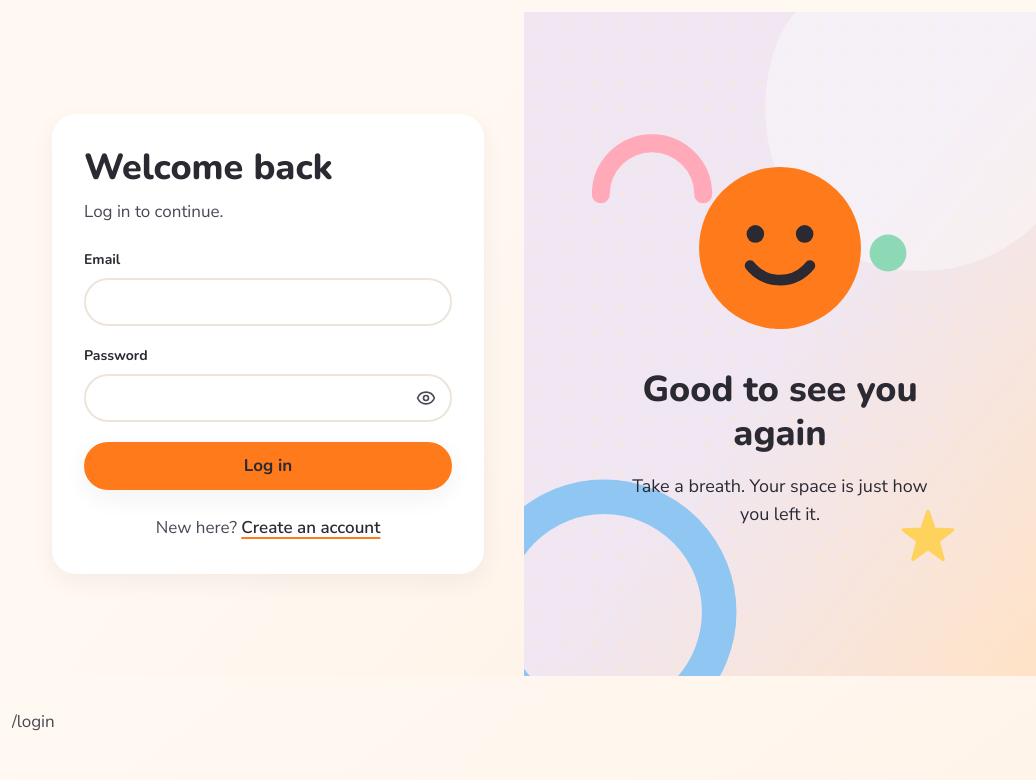
Login form › sends a counsellor to their own home (/counsellor)
Type "asha@college.edu" into the field labelled "Email" at (268, 302), box [84,278,452,326]
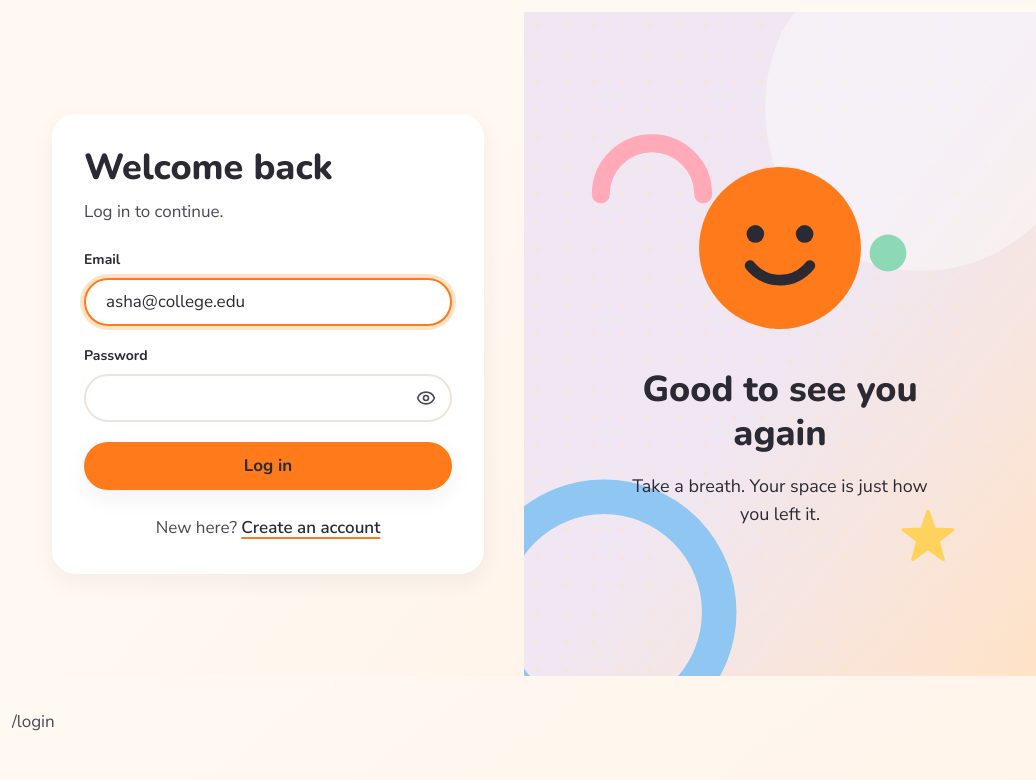
Type "secret123" into the password field labelled "Password" at (268, 398), box [84,374,452,422]
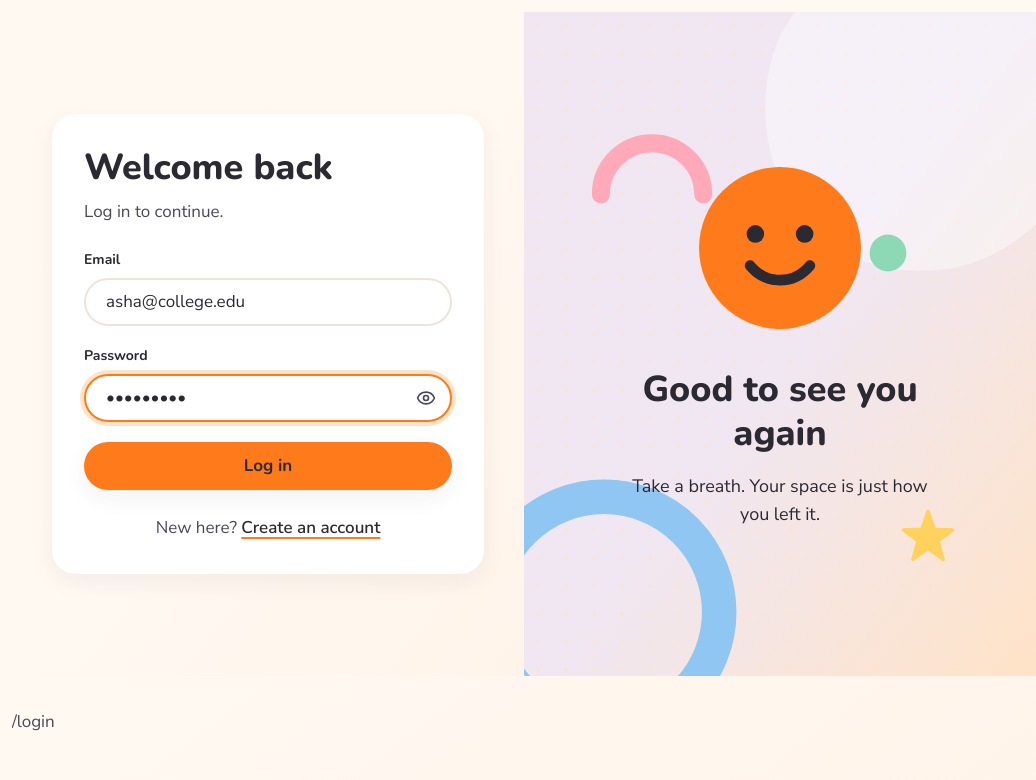
Click the button "Log in" at (268, 466), box [84,442,452,490]
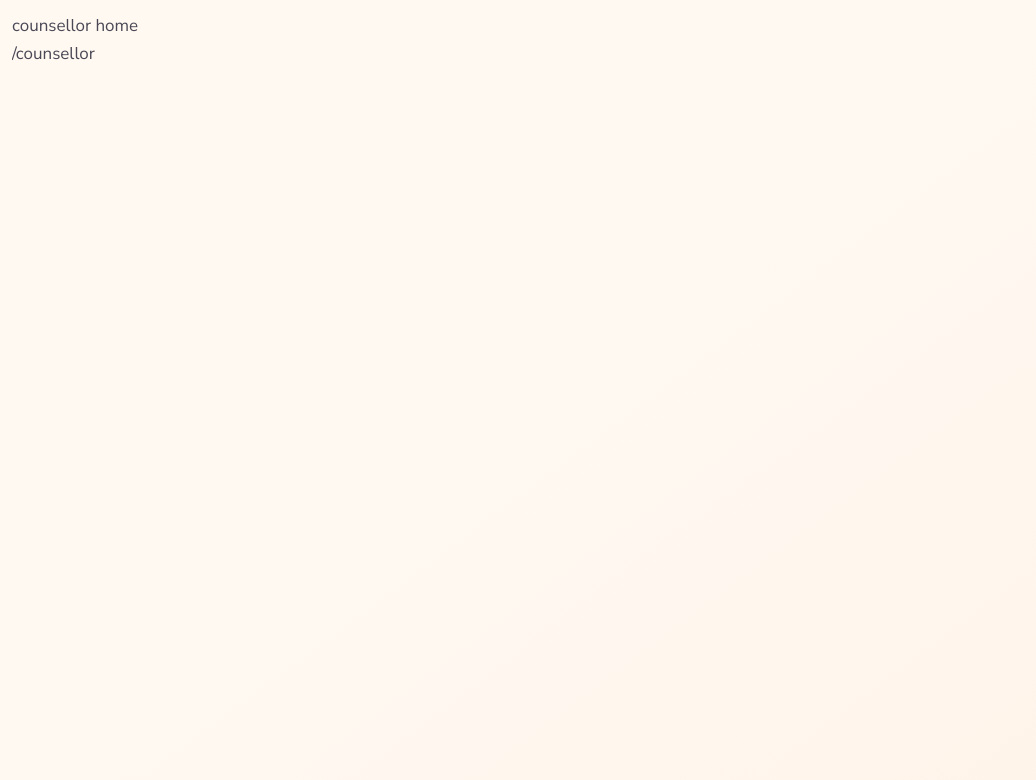
Check: the text with test id "location" reads "/counsellor", box [12,42,95,65]
Check: the text "counsellor home" is shown, box [12,14,138,37]
